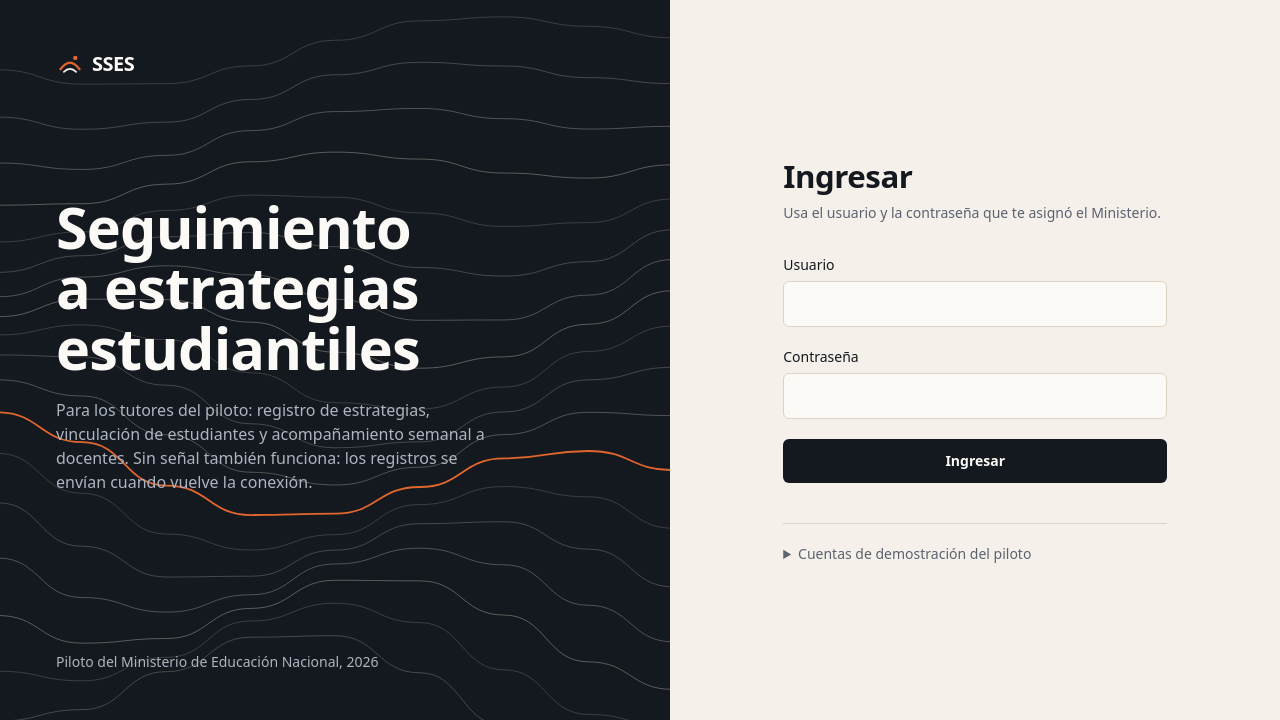
Test: Login › con credenciales incorrectas dice cuántos intentos quedan
The width and height of the screenshot is (1280, 720).
In the field labelled "Usuario": (975, 304) [783,281,1167,327], type "tutor.caribe"
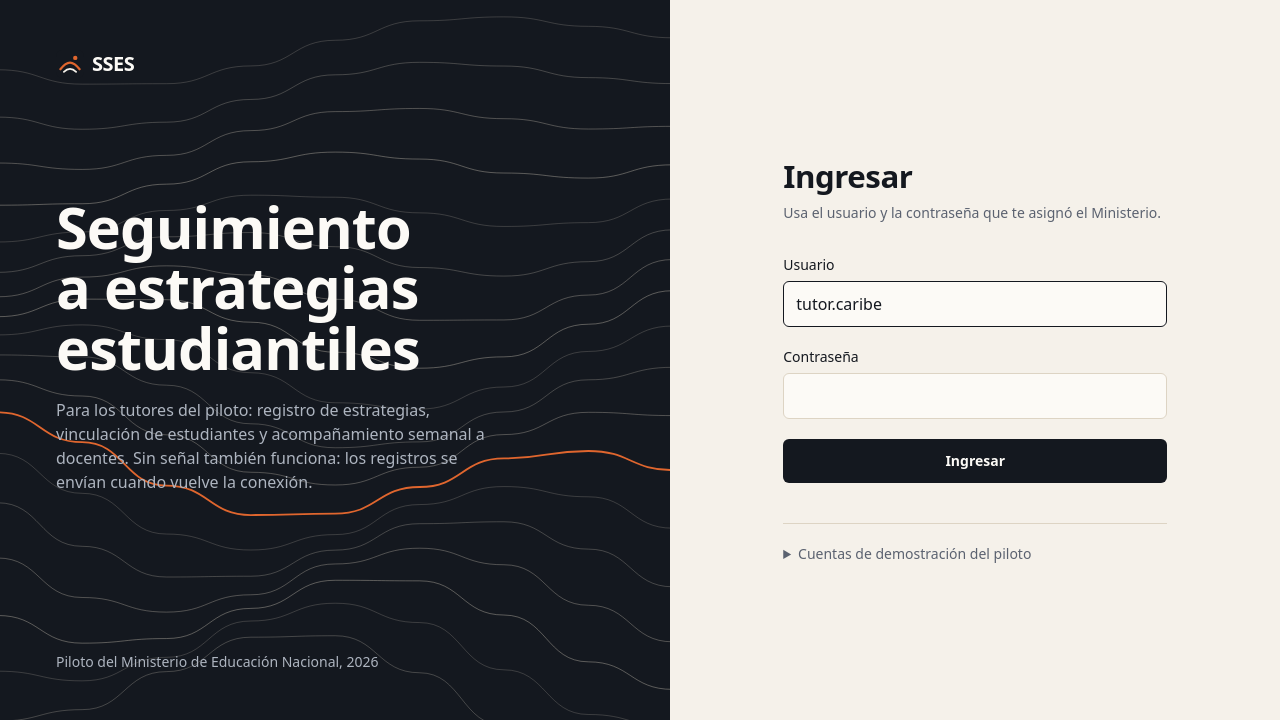
In the password field labelled "Contraseña": (975, 396) [783,373,1167,419], type "mala"
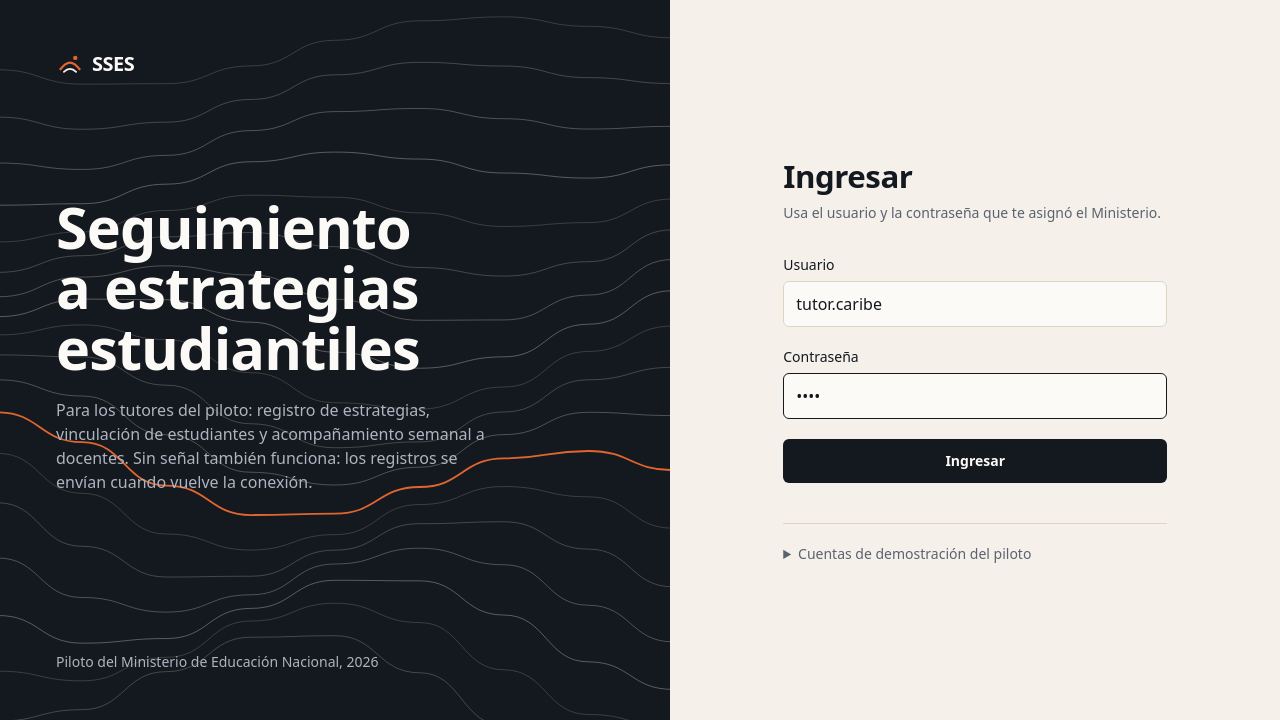
Click the button "Ingresar": click(975, 461) [783,439,1167,483]
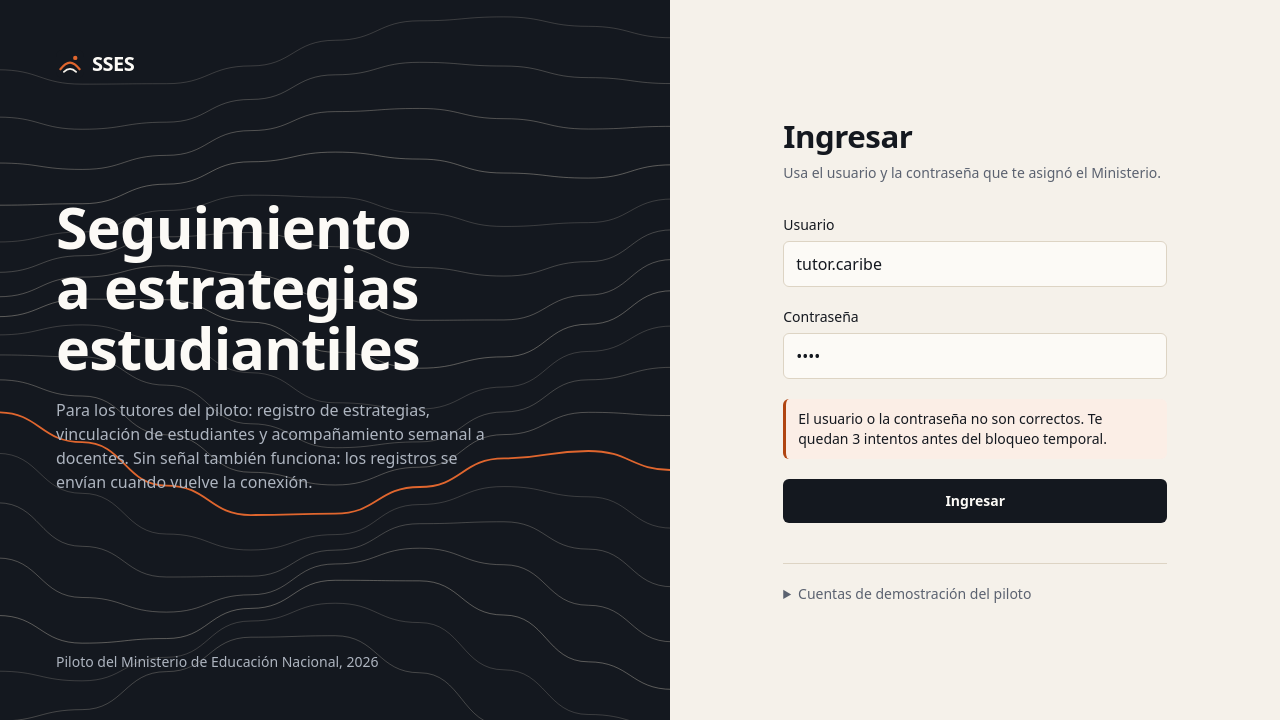
Now the message shows "Te quedan 3 intentos", box [798,409,1107,448]
